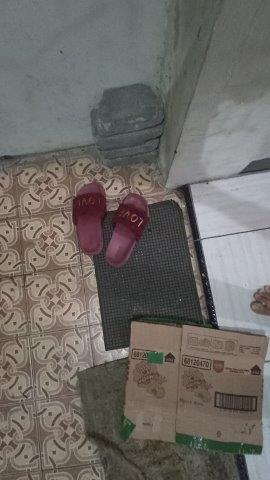kardus: (125, 322, 267, 454)
